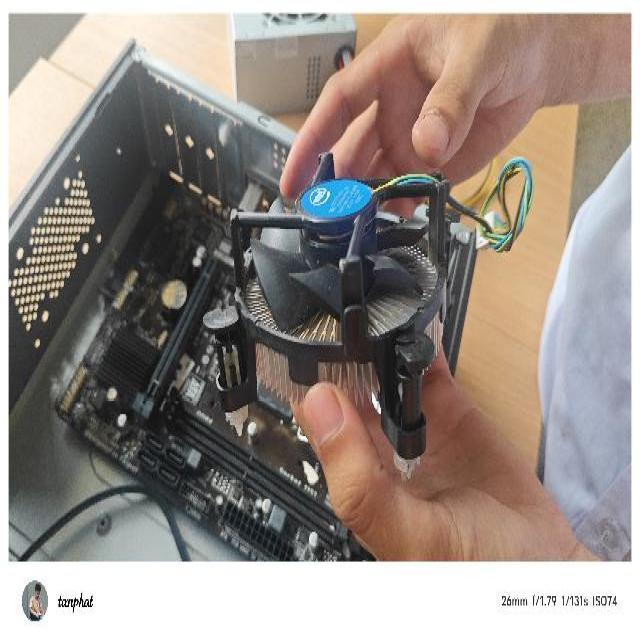CPU_Fan: (199, 143, 477, 489)
